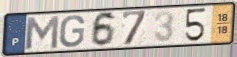3: (153, 9, 177, 43)
5: (183, 7, 209, 43)
6: (88, 10, 118, 49)
7: (121, 10, 149, 47)
G: (58, 14, 87, 49)
M: (24, 14, 61, 51)
